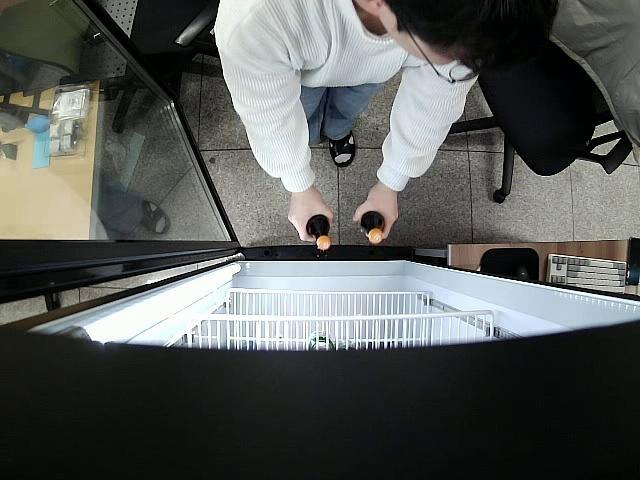17_vita500: (358, 209, 388, 245), (306, 214, 330, 252)
